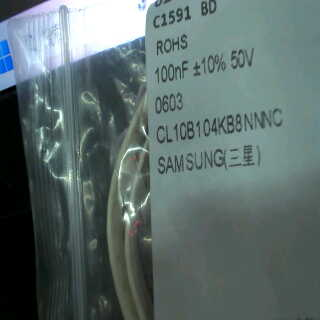100nF: (152, 58, 190, 87)
